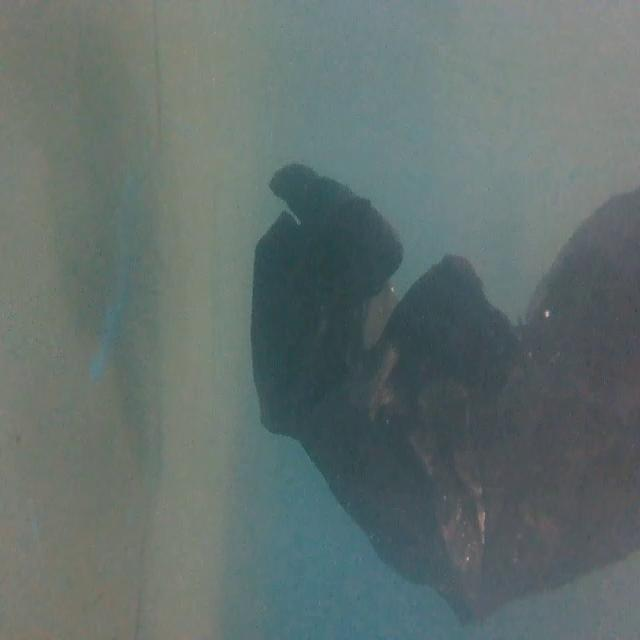plastic bags: (249, 154, 640, 634)
